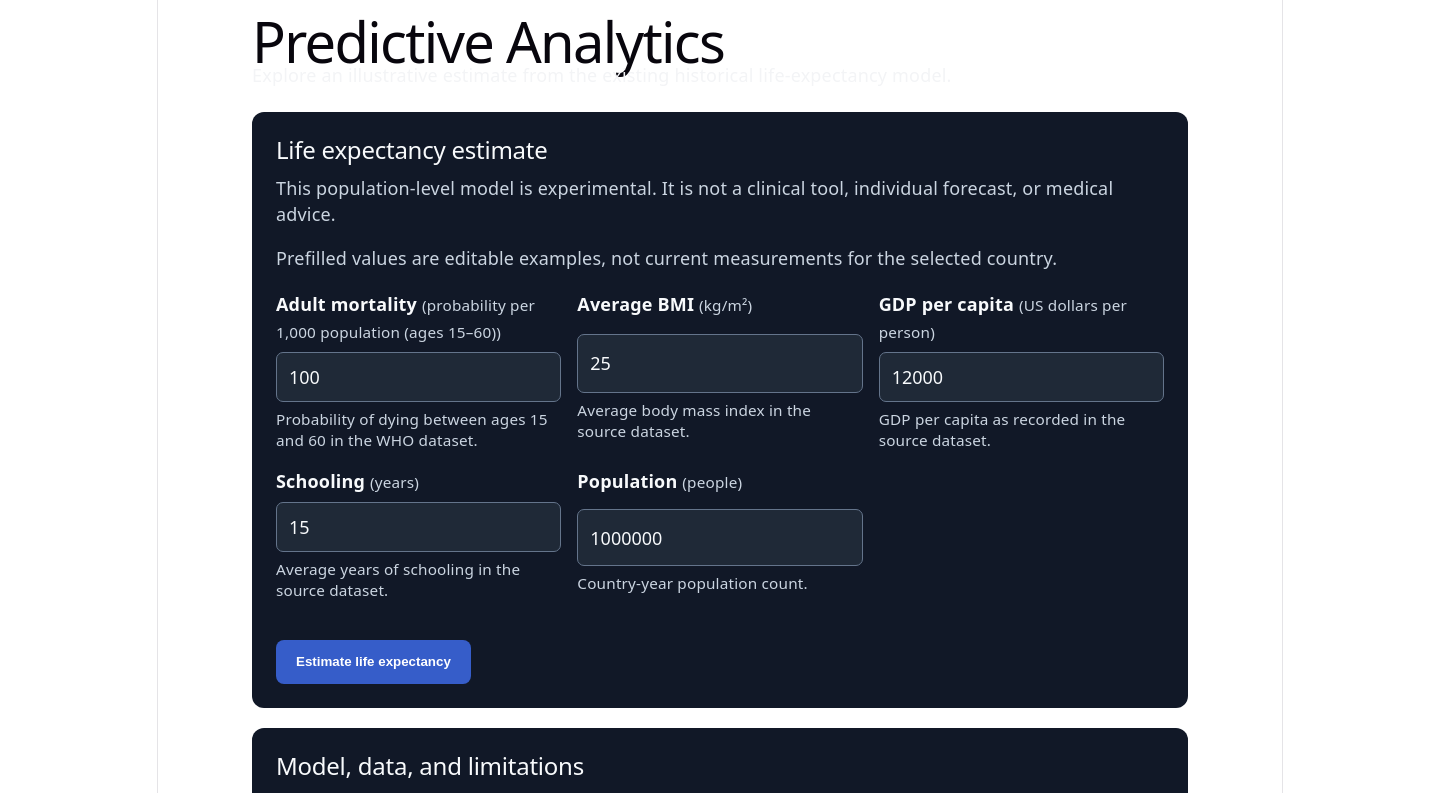
it: PredictiveAnalytics › shows a successful prediction even when refreshing history fails
Click the button "Estimate life expectancy": (373, 662) left=276, top=640, right=471, bottom=684
(page scrolled)
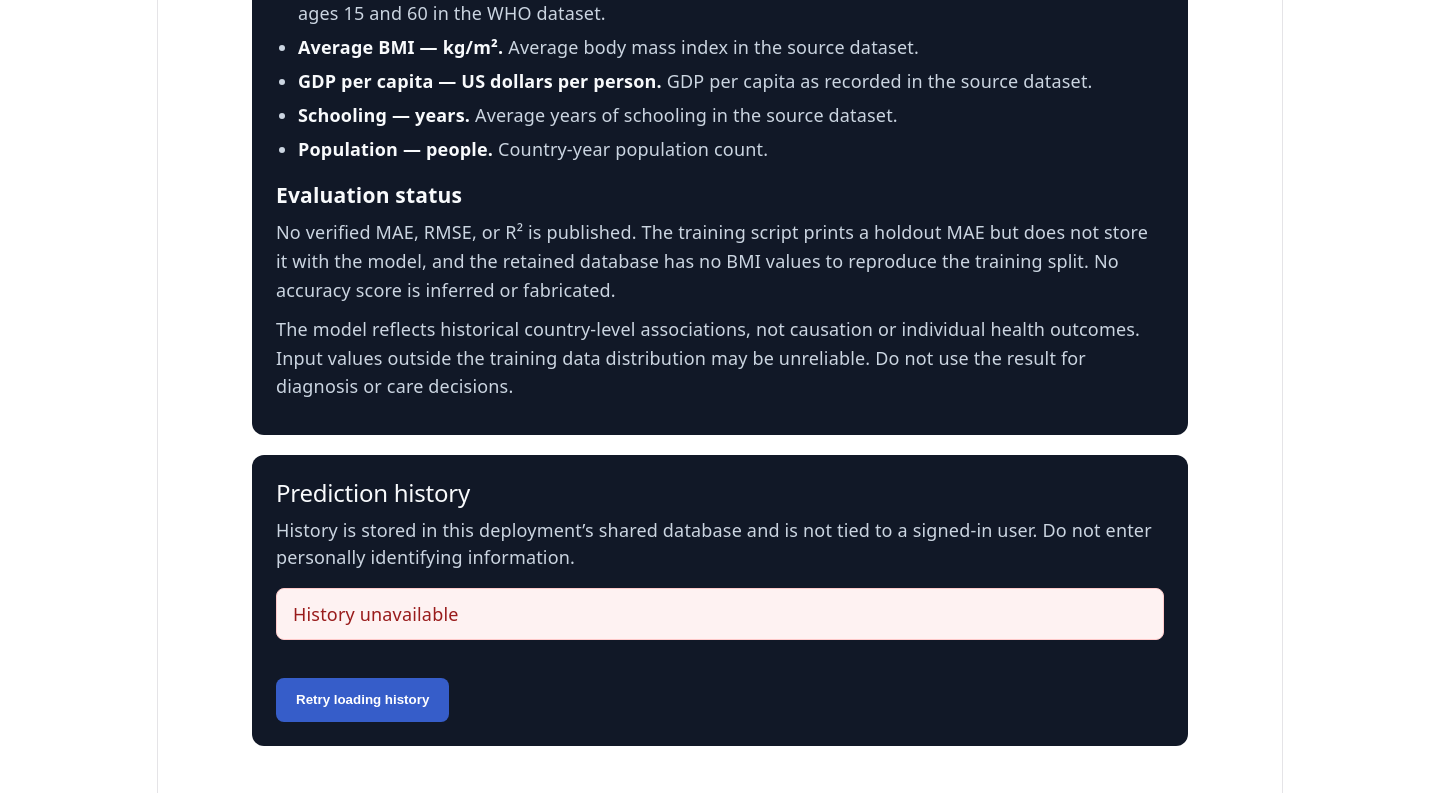
Expected: the message reads "History unavailable", left=293, top=602, right=458, bottom=626
